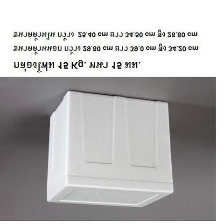foam_box: (41, 88, 177, 211)
